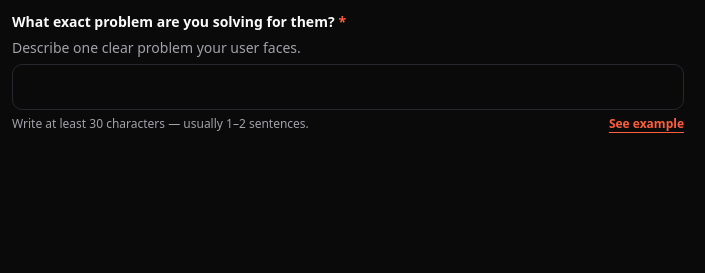
Test: See example › shows the worked answer, and says whose project it is about
The image size is (705, 273).
What coordinates should you click on to do the following:
click the button with test id "see-example-exactProblem"
I would click on:
 (646, 124)
Its box is left=609, top=116, right=684, bottom=132.
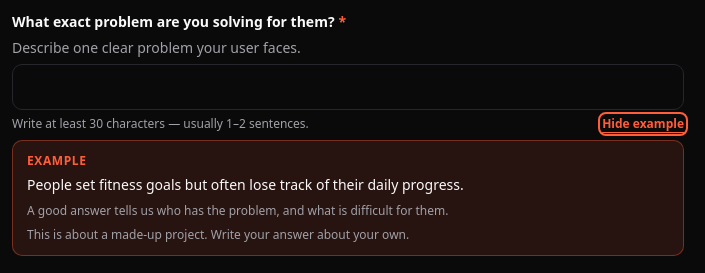
Result: the element with test id "example-exactProblem" shows "People set fitness goals but often lose track of their daily progress." at left=27, top=175, right=464, bottom=194
Result: the element with test id "example-exactProblem" shows "Write your answer about your own" at left=27, top=226, right=409, bottom=243
